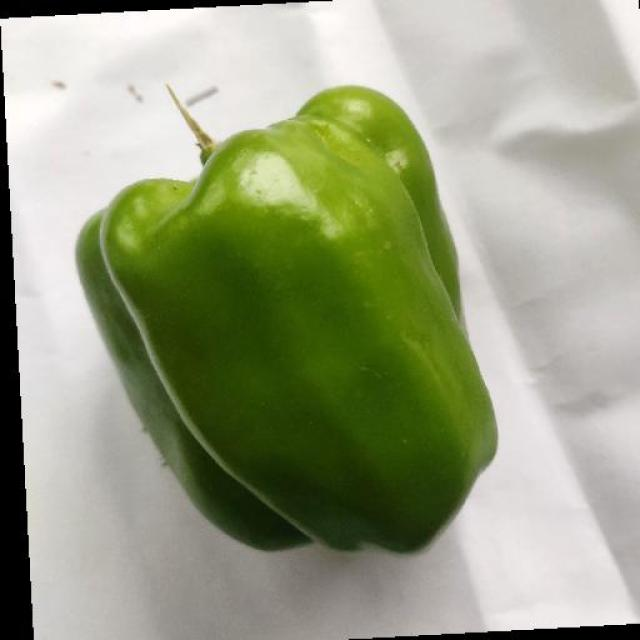Fresh_Capsicum: (99, 111, 495, 542)
